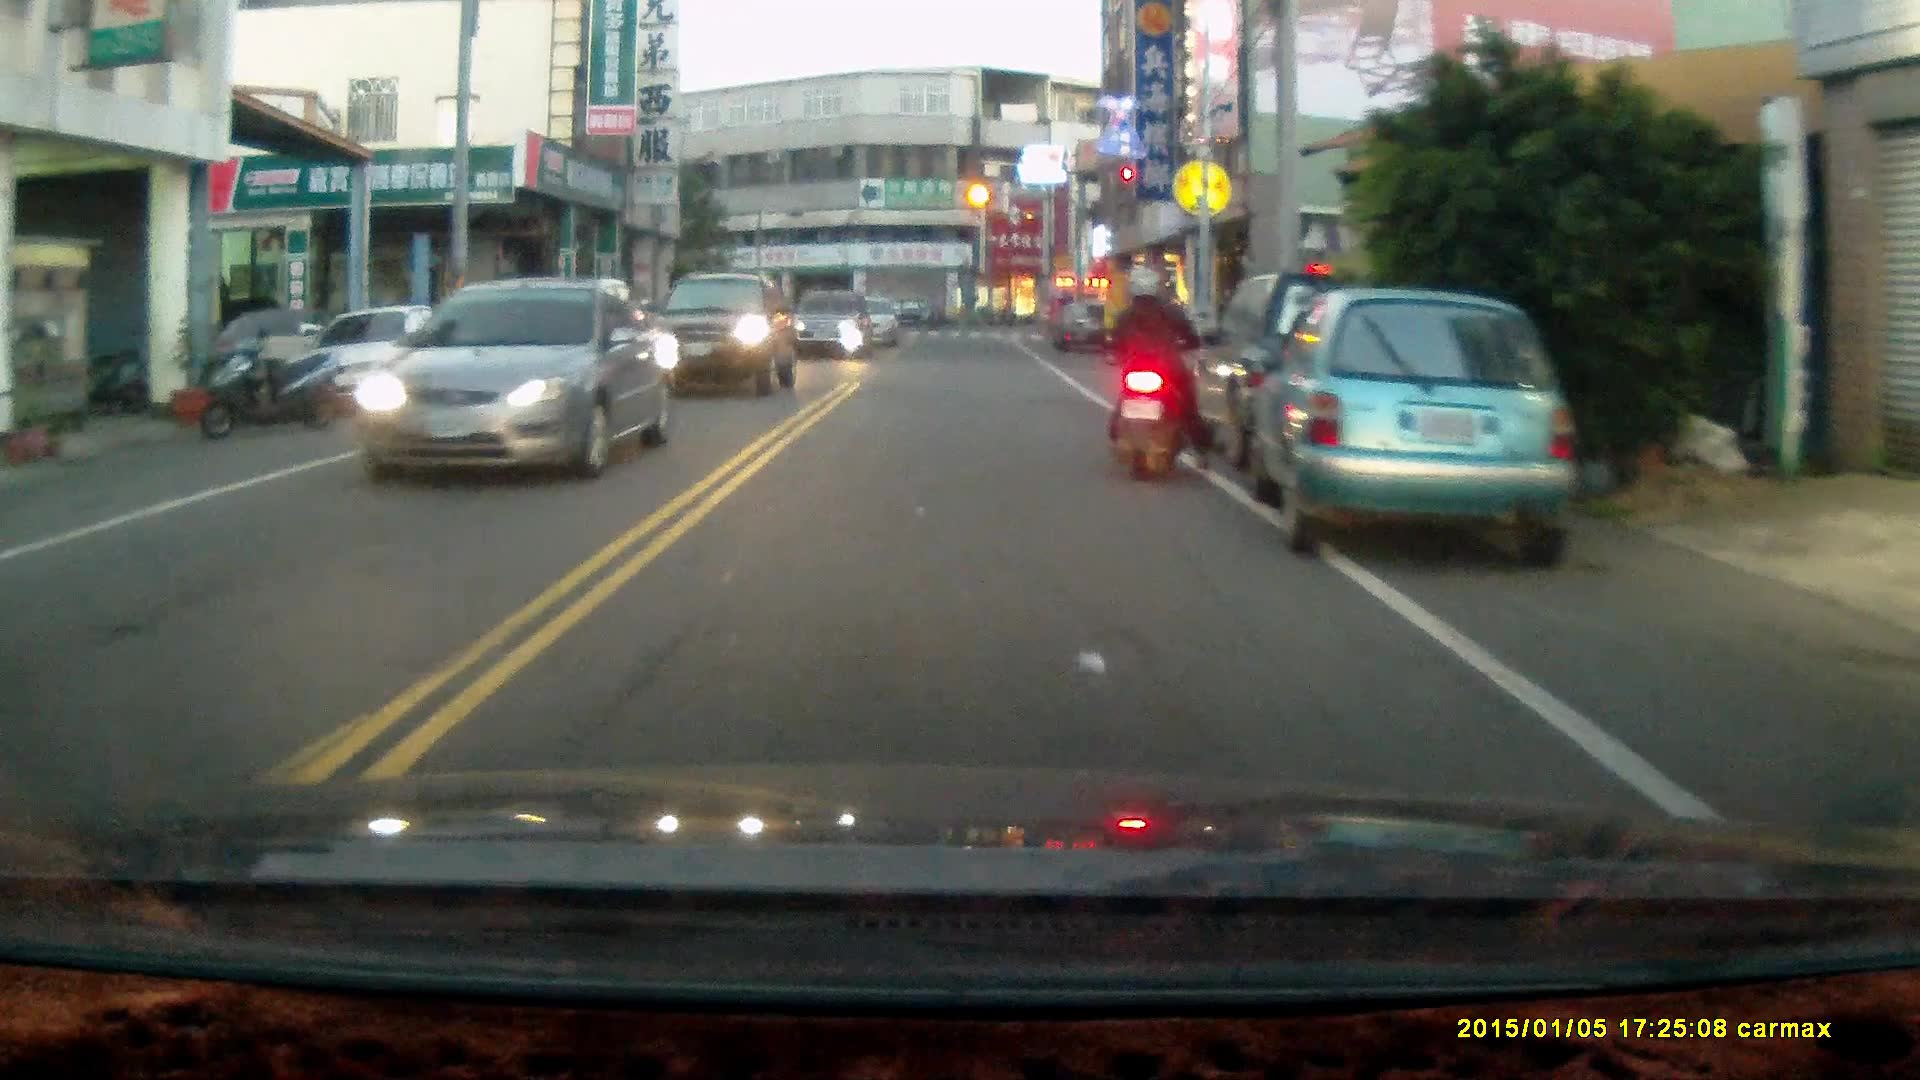rider: (1106, 265, 1210, 482)
vehicle: (1245, 288, 1583, 571), (345, 280, 675, 486), (1165, 269, 1465, 473), (279, 302, 486, 412), (647, 272, 798, 397), (787, 294, 875, 361)
